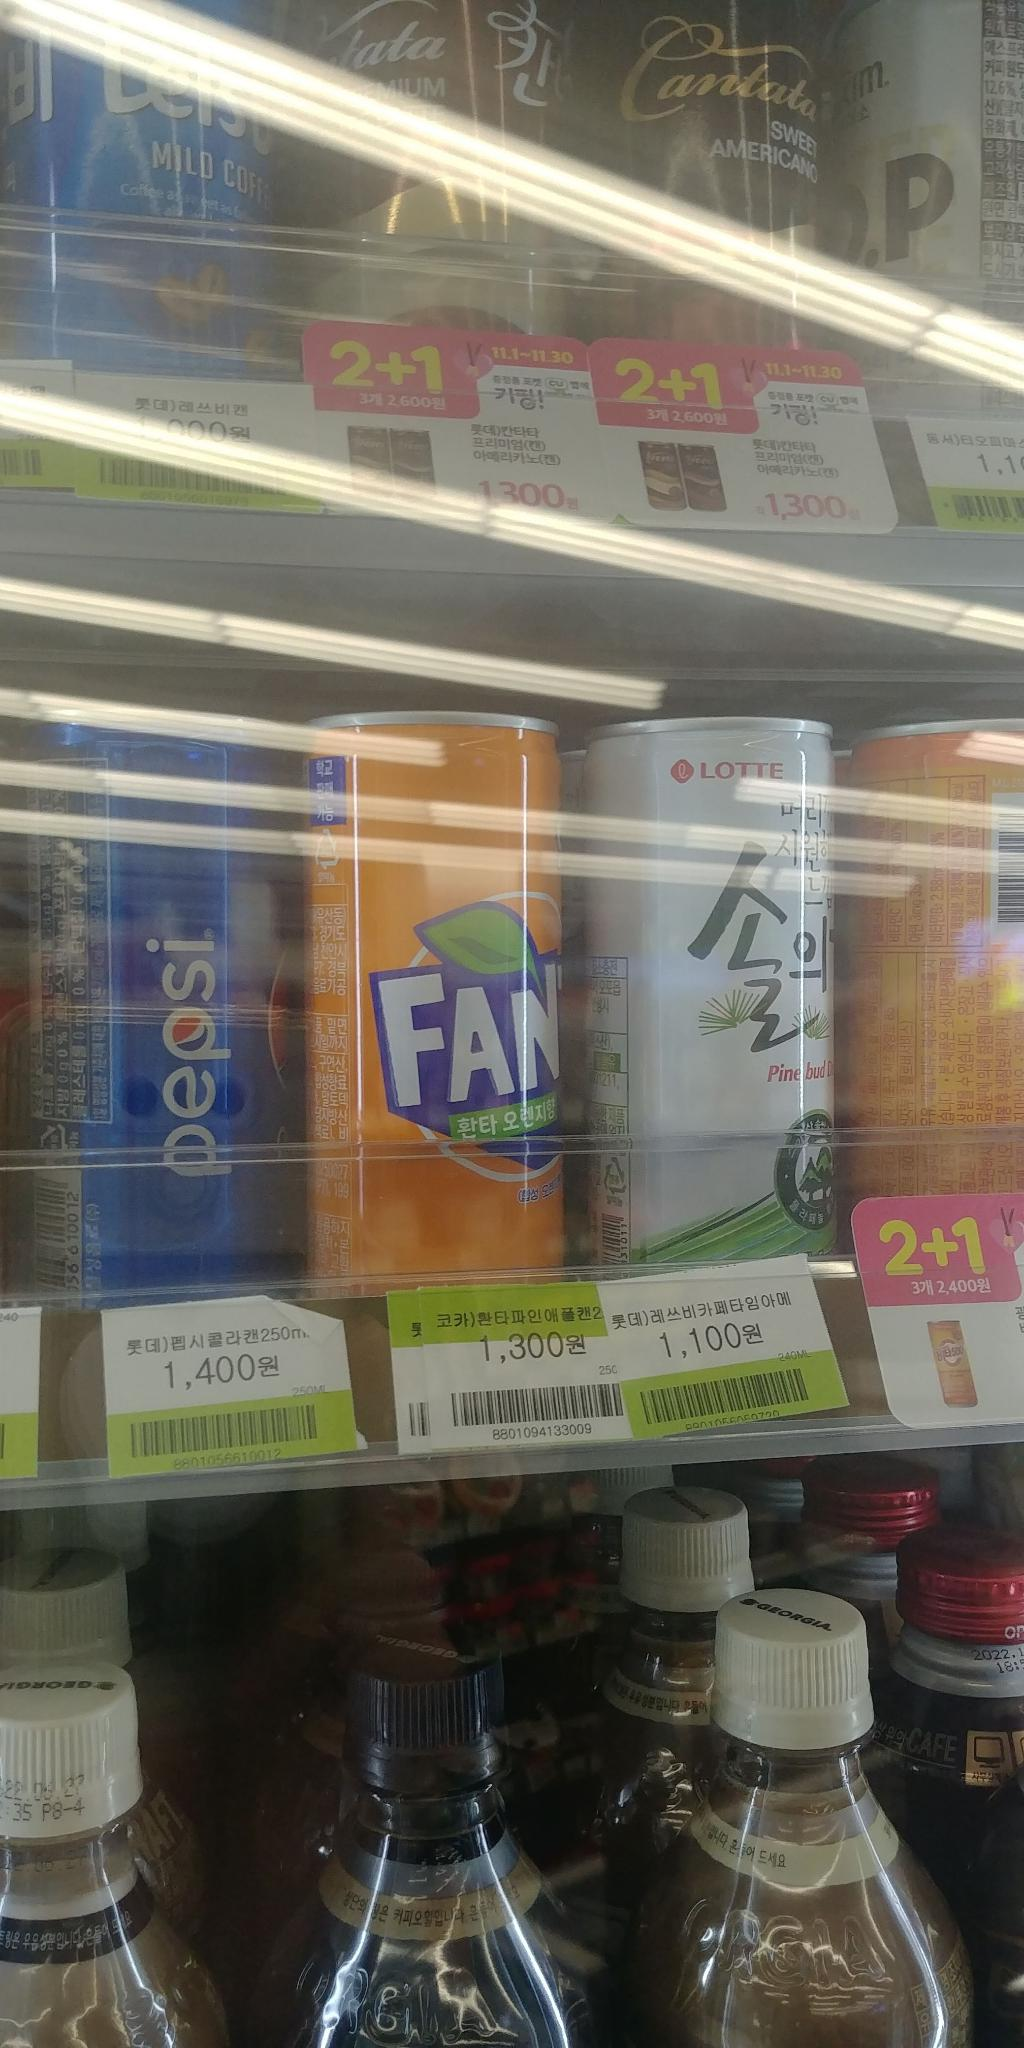letsbe: (0, 0, 269, 385)
